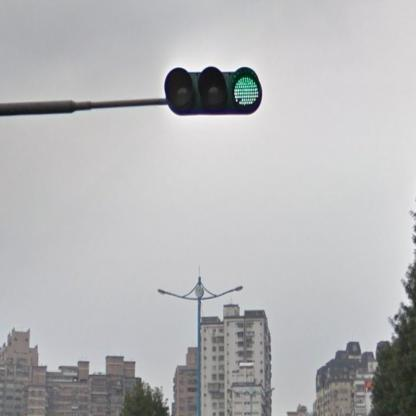Green Light: (164, 64, 262, 115)
